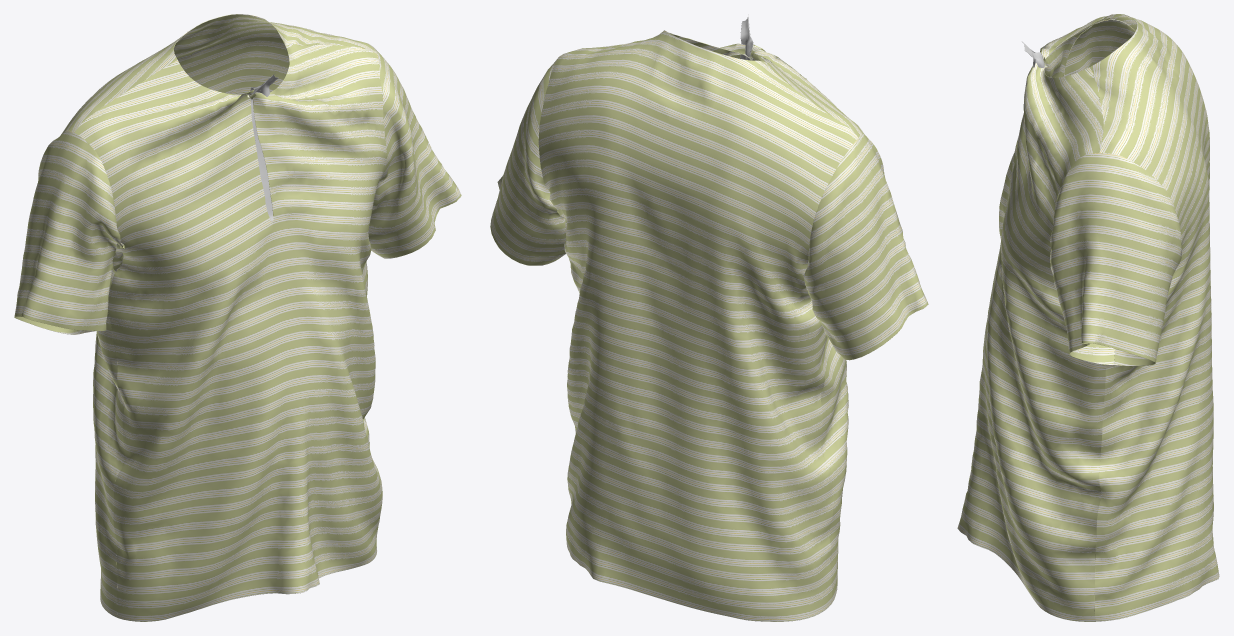
The model's file is cloth.obj.
3 views of the same model, side by side, from view 1: azimuth 30°, elevation 25°; view 2: azimuth 150°, elevation 25°; view 3: azimuth 270°, elevation 25° (orthographic).
Parts seen in each view (by area): view 1: _Piece2, FR, SL1, _SL1, Piece2; view 2: FR, SL1, _SL1, _Piece2; view 3: _Piece2, FR, _SL1, SL1.
Boxes of the visible parts, box(x1,y1,x2,y2) form: _Piece2: box(74, 43, 386, 621); FR: box(60, 14, 376, 617); SL1: box(14, 131, 124, 334); _SL1: box(368, 47, 461, 258); Piece2: box(250, 75, 278, 221); FR: box(538, 30, 858, 621); SL1: box(803, 134, 928, 359); _SL1: box(490, 57, 566, 265); _Piece2: box(672, 34, 864, 603); _Piece2: box(957, 16, 1110, 621); FR: box(1089, 14, 1219, 621); _SL1: box(1050, 153, 1181, 365); SL1: box(1063, 20, 1135, 76).
Size of the model in its own units: 0.601 by 0.7336 by 0.3159.
Materials: 4 (3 with a texture image).
